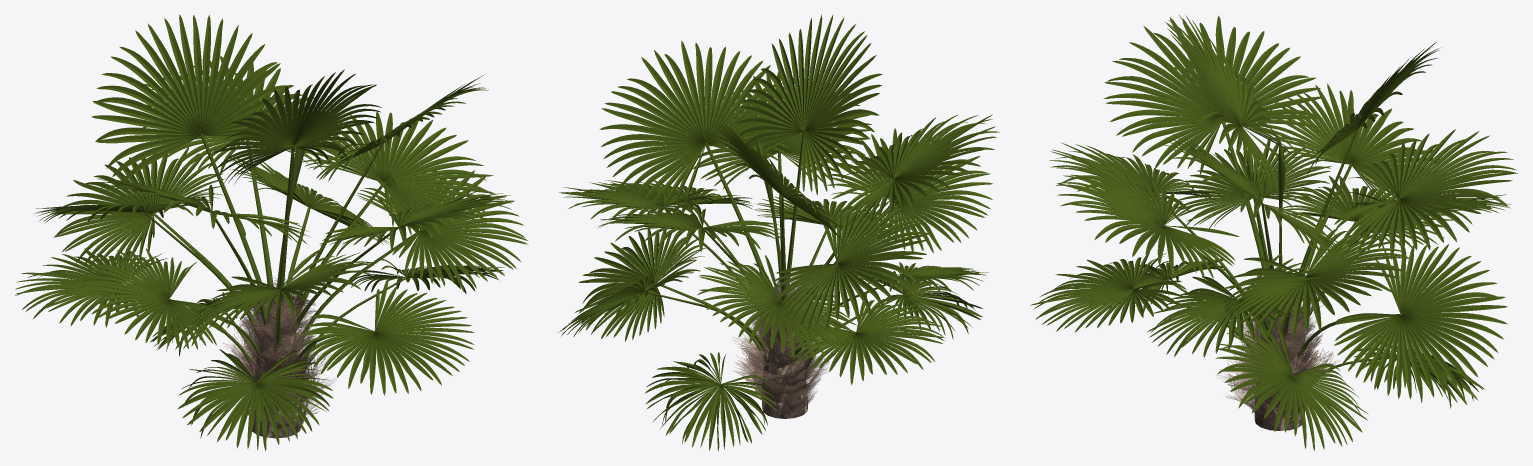
The model's file is realistic_hd_windmill_palm_1625.glb.
3 renders of one model, left to right at view 1: azimuth 30°, elevation 25°; view 2: azimuth 150°, elevation 25°; view 3: azimuth 270°, elevation 25°, orthographic. The views are drawn at different scales.
Visible parts, largest first — view 1: Trachycarpus_fortunei_HD_Trachy flat leaflet 01_0, Trachycarpus_fortunei_HD_Trachy flat leaflet 02_0, Trachycarpus_fortunei_HD_Trachy flat leaflet 03_0, Trachycarpus_fortunei_HD_Trachy leaf stalk 01_0, Trachycarpus_fortunei_HD_Trachy fur 1_0, Trachycarpus_fortunei_HD_Trachy fur 2_0, Trachycarpus_fortunei_HD_Trachy trunk_0; view 2: Trachycarpus_fortunei_HD_Trachy flat leaflet 02_0, Trachycarpus_fortunei_HD_Trachy flat leaflet 03_0, Trachycarpus_fortunei_HD_Trachy flat leaflet 01_0, Trachycarpus_fortunei_HD_Trachy leaf stalk 01_0, Trachycarpus_fortunei_HD_Trachy fur 1_0, Trachycarpus_fortunei_HD_Trachy trunk_0, Trachycarpus_fortunei_HD_Trachy fur 2_0; view 3: Trachycarpus_fortunei_HD_Trachy flat leaflet 01_0, Trachycarpus_fortunei_HD_Trachy flat leaflet 03_0, Trachycarpus_fortunei_HD_Trachy flat leaflet 02_0, Trachycarpus_fortunei_HD_Trachy leaf stalk 01_0, Trachycarpus_fortunei_HD_Trachy fur 1_0, Trachycarpus_fortunei_HD_Trachy fur 2_0, Trachycarpus_fortunei_HD_Trachy trunk_0.
Boxes of the visible parts, box(x1,y1,x2,y2) form: Trachycarpus_fortunei_HD_Trachy flat leaflet 01_0: box(15, 14, 524, 451); Trachycarpus_fortunei_HD_Trachy flat leaflet 02_0: box(15, 18, 514, 450); Trachycarpus_fortunei_HD_Trachy flat leaflet 03_0: box(16, 15, 528, 448); Trachycarpus_fortunei_HD_Trachy leaf stalk 01_0: box(144, 133, 422, 388); Trachycarpus_fortunei_HD_Trachy fur 1_0: box(220, 279, 336, 424); Trachycarpus_fortunei_HD_Trachy fur 2_0: box(218, 271, 331, 428); Trachycarpus_fortunei_HD_Trachy trunk_0: box(252, 302, 301, 438); Trachycarpus_fortunei_HD_Trachy flat leaflet 02_0: box(557, 14, 999, 434); Trachycarpus_fortunei_HD_Trachy flat leaflet 03_0: box(559, 24, 996, 450); Trachycarpus_fortunei_HD_Trachy flat leaflet 01_0: box(562, 15, 992, 451); Trachycarpus_fortunei_HD_Trachy leaf stalk 01_0: box(644, 129, 904, 394); Trachycarpus_fortunei_HD_Trachy fur 1_0: box(732, 266, 832, 410); Trachycarpus_fortunei_HD_Trachy trunk_0: box(762, 327, 807, 418); Trachycarpus_fortunei_HD_Trachy fur 2_0: box(741, 278, 821, 402); Trachycarpus_fortunei_HD_Trachy flat leaflet 01_0: box(1034, 15, 1515, 450); Trachycarpus_fortunei_HD_Trachy flat leaflet 03_0: box(1030, 15, 1513, 432); Trachycarpus_fortunei_HD_Trachy flat leaflet 02_0: box(1035, 24, 1517, 449); Trachycarpus_fortunei_HD_Trachy leaf stalk 01_0: box(1132, 123, 1401, 386); Trachycarpus_fortunei_HD_Trachy fur 1_0: box(1216, 266, 1338, 417); Trachycarpus_fortunei_HD_Trachy fur 2_0: box(1226, 266, 1322, 426); Trachycarpus_fortunei_HD_Trachy trunk_0: box(1254, 320, 1304, 430).
Bounding box in the file's own units: 1.46 × 1.28 × 1.44.
Materials: 7 (7 with a texture image).
